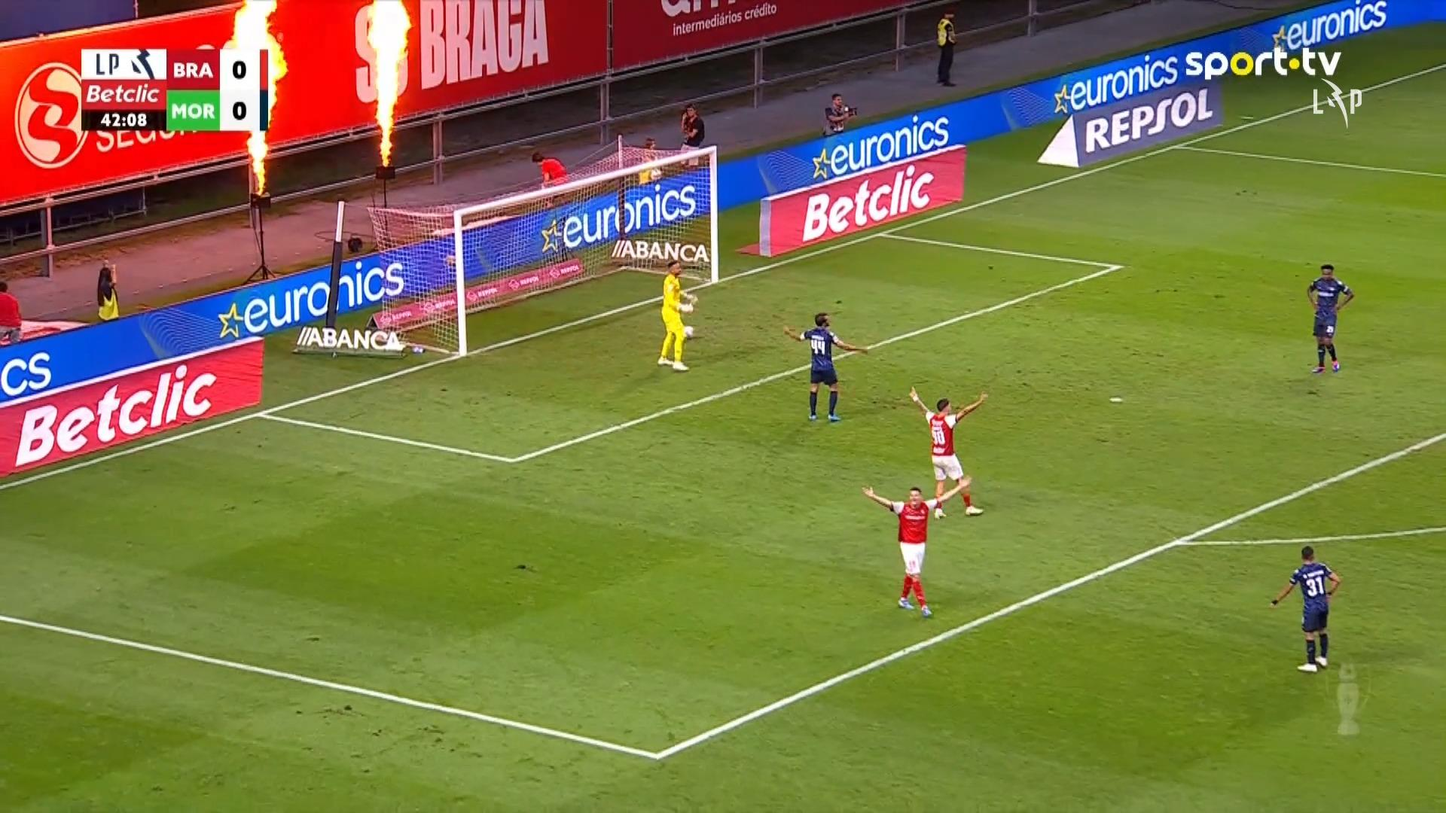ball: (682, 325, 694, 339)
goalkeeper: (656, 259, 697, 371)
player: (862, 481, 967, 618), (907, 384, 989, 519), (782, 311, 868, 422), (1269, 544, 1341, 673), (1306, 263, 1354, 373)
